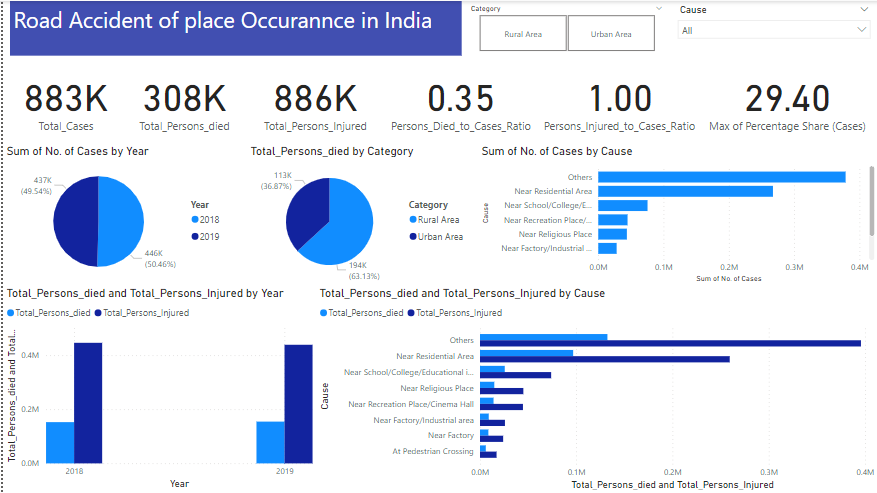

What the dashboard file says about the page in this screenshot:
{"tool":"powerbi","page":{"name":"Road_accident_place occurannce","canvas":[1280,720],"ordinal":7},"visuals":[{"type":"card","fields":{"Values":["Road_accidents_place_of_occurence.Total_Cases"]},"box":[10.2,80.5,163.9,128.8],"z":0},{"type":"card","fields":{"Values":["Road_accidents_place_of_occurence.Total_Persons_Injured"]},"box":[174.1,80.5,182.9,128.8],"z":1000},{"type":"slicer","fields":{"Values":["Road_accidents_place_of_occurence.Cause"]},"box":[978,0,302,80.6],"z":2000},{"type":"slicer","fields":{"Values":["Road_accidents_place_of_occurence.Category"]},"box":[671.7,0,305.9,80.5],"z":3000},{"type":"card","fields":{"Values":["Road_accidents_place_of_occurence.Total_Persons_Injured"]},"box":[357.1,80.5,200.5,128.8],"z":4000},{"type":"card","fields":{"Values":["Road_accidents_place_of_occurence.Persons_Injured_to_Cases_Ratio"]},"box":[782.9,80.5,238.5,128.8],"z":5000},{"type":"card","fields":{"Values":["Road_accidents_place_of_occurence.Persons_Died_to_Cases_Ratio"]},"box":[557.6,80.5,225.4,128.8],"z":6000},{"type":"textbox","box":[10.2,0,661.5,80.5],"z":7000},{"type":"card","fields":{"Values":["Max(Road_accidents_place_of_occurence.Percentage Share (Cases))"]},"box":[1015.6,80.5,264.9,128.8],"z":8000},{"type":"pieChart","fields":{"Category":["Road_accidents_place_of_occurence.Year"],"Y":["Sum(Road_accidents_place_of_occurence.No. of Cases)"]},"box":[0,209.3,330.7,207.8],"z":9000},{"type":"clusteredBarChart","fields":{"Category":["Road_accidents_place_of_occurence.Cause"],"Y":["Sum(Road_accidents_place_of_occurence.No. of Cases)"]},"box":[695.1,209.3,585.4,207.8],"z":10000},{"type":"pieChart","fields":{"Category":["Road_accidents_place_of_occurence.Category"],"Y":["Road_accidents_place_of_occurence.Total_Persons_died"]},"box":[357.1,209.3,330.7,207.8],"z":11000},{"type":"clusteredColumnChart","fields":{"Y":["Road_accidents_place_of_occurence.Total_Persons_died","Road_accidents_place_of_occurence.Total_Persons_Injured"],"Category":["Road_accidents_place_of_occurence.Year"]},"box":[0,417.1,458,302.9],"z":12000},{"type":"clusteredBarChart","fields":{"Category":["Road_accidents_place_of_occurence.Cause"],"Y":["Road_accidents_place_of_occurence.Total_Persons_died","Road_accidents_place_of_occurence.Total_Persons_Injured"]},"box":[457.5,416.4,822.5,303.5],"z":13000}]}

Visuals, with their boxes in screenshot pixels (x1, y1, x2, y2), scaled from the page's 1280x720 canvas onto the 877x493 screenshot:
card - Road_accidents_place_of_occurence.Total_Cases: <box>7,55,119,143</box>
card - Road_accidents_place_of_occurence.Total_Persons_Injured: <box>119,55,245,143</box>
slicer - Road_accidents_place_of_occurence.Cause: <box>670,0,876,55</box>
slicer - Road_accidents_place_of_occurence.Category: <box>460,0,670,55</box>
card - Road_accidents_place_of_occurence.Total_Persons_Injured: <box>245,55,382,143</box>
card - Road_accidents_place_of_occurence.Persons_Injured_to_Cases_Ratio: <box>536,55,700,143</box>
card - Road_accidents_place_of_occurence.Persons_Died_to_Cases_Ratio: <box>382,55,536,143</box>
textbox: <box>7,0,460,55</box>
card - Max(Road_accidents_place_of_occurence.Percentage Share (Cases)): <box>696,55,876,143</box>
pieChart - Road_accidents_place_of_occurence.Year x Sum(Road_accidents_place_of_occurence.No. of Cases): <box>0,143,227,286</box>
clusteredBarChart - Road_accidents_place_of_occurence.Cause x Sum(Road_accidents_place_of_occurence.No. of Cases): <box>476,143,876,286</box>
pieChart - Road_accidents_place_of_occurence.Category x Road_accidents_place_of_occurence.Total_Persons_died: <box>245,143,471,286</box>
clusteredColumnChart - Road_accidents_place_of_occurence.Total_Persons_died x Road_accidents_place_of_occurence.Total_Persons_Injured: <box>0,286,314,492</box>
clusteredBarChart - Road_accidents_place_of_occurence.Cause x Road_accidents_place_of_occurence.Total_Persons_died: <box>313,285,876,492</box>
